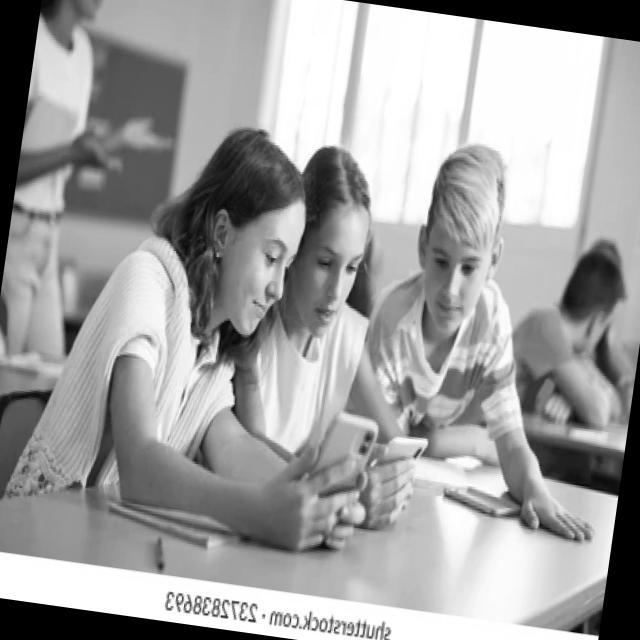phone: (306, 408, 382, 504), (441, 481, 525, 519), (372, 430, 431, 476)
